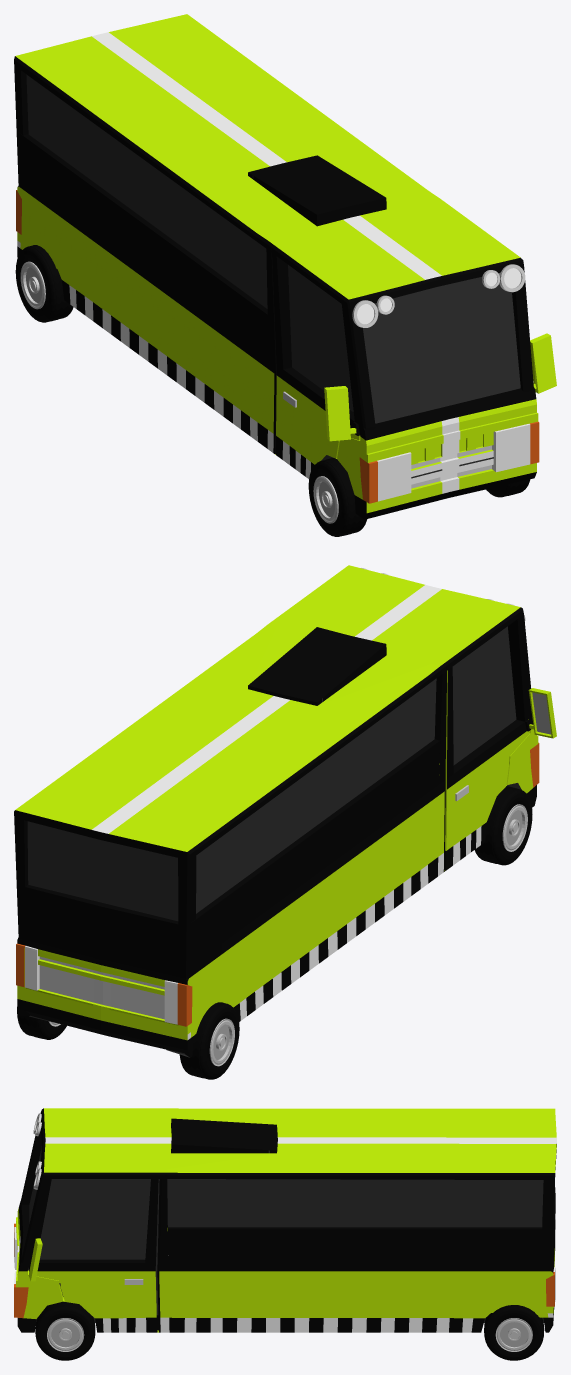
Rendered from CR-CAR-13A.fbx.
The picture shows the model from 3 angles, top to bottom: view 1: azimuth 30°, elevation 25°; view 2: azimuth 150°, elevation 25°; view 3: azimuth 270°, elevation 25°; orthographic projection. The views are drawn at different scales.
Visible parts, largest first — view 1: BODY, WHEEL.001, WHEEL.004; view 2: BODY, WHEEL.001, WHEEL.004, WHEEL.002; view 3: BODY, WHEEL.003, WHEEL.002.
Boxes of the visible parts, left/top/right/bottom form: BODY: left=14, top=14, right=556, bottom=519; WHEEL.001: left=308, top=458, right=367, bottom=536; WHEEL.004: left=15, top=245, right=73, bottom=322; BODY: left=14, top=565, right=556, bottom=1057; WHEEL.001: left=475, top=786, right=532, bottom=865; WHEEL.004: left=179, top=1002, right=239, bottom=1079; WHEEL.002: left=17, top=1007, right=66, bottom=1039; BODY: left=14, top=1108, right=556, bottom=1332; WHEEL.003: left=35, top=1301, right=95, bottom=1360; WHEEL.002: left=484, top=1305, right=544, bottom=1360.
Size of the model in its own units: 131 by 141 by 353.
